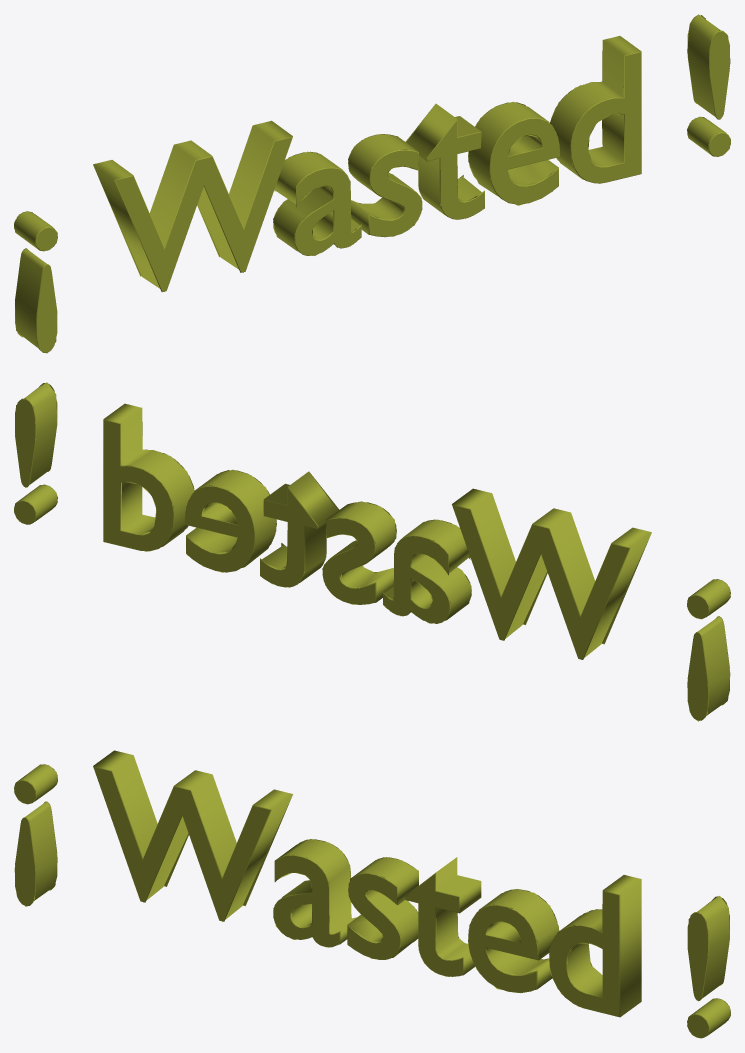
The model's file is LetreroDeFin.obj.
3 renders of one model, top to bottom at view 1: azimuth 30°, elevation 25°; view 2: azimuth 150°, elevation 25°; view 3: azimuth 330°, elevation 25°, orthographic.
Parts seen in each view (by area): view 1: Text_Text.000; view 2: Text_Text.000; view 3: Text_Text.000.
Part boxes in pixels (x1,y1,x2,y2): Text_Text.000: (14,14,730,353); Text_Text.000: (14,382,730,721); Text_Text.000: (14,750,730,1038).
Bounding box in the file's own units: 4.63 × 1.02 × 0.2561.
